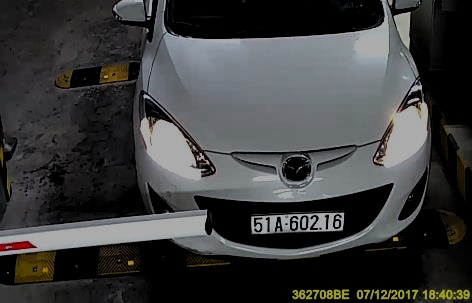plate: (245, 207, 347, 234)
